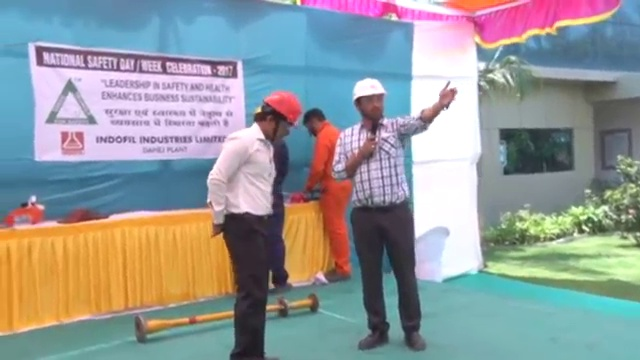helmet: (264, 91, 303, 127), (351, 77, 387, 106)
helmet_off: (301, 106, 329, 139)
helmet_on: (253, 90, 304, 150), (350, 77, 388, 128)
person: (332, 77, 458, 351), (205, 91, 304, 360), (300, 105, 355, 280)
